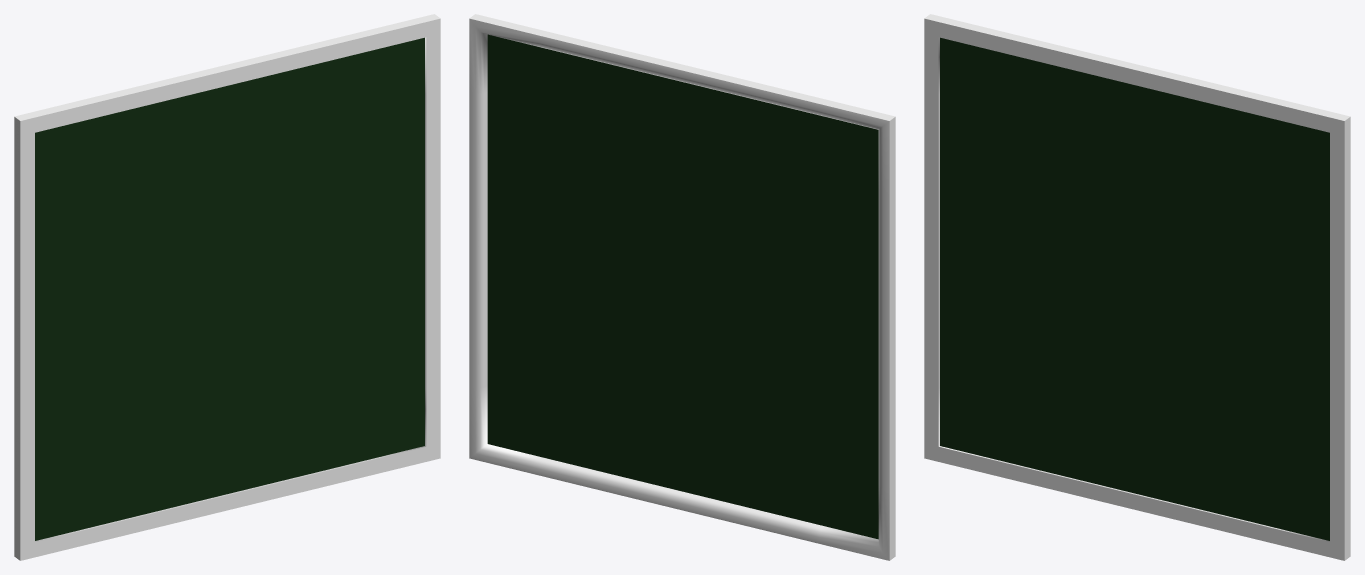
Rendered from poster.FBX.
The picture shows the model from 3 angles, left to right: view 1: azimuth 30°, elevation 25°; view 2: azimuth 150°, elevation 25°; view 3: azimuth 330°, elevation 25°; orthographic projection.
Parts seen in each view (by area): view 1: Plane01, Rectangle01; view 2: Plane01, Rectangle01; view 3: Plane01, Rectangle01.
Boxes of the visible parts, box(x1,y1,x2,y2) form: Plane01: box(35, 37, 424, 540); Rectangle01: box(14, 14, 440, 560); Plane01: box(487, 34, 878, 539); Rectangle01: box(469, 14, 895, 560); Plane01: box(940, 37, 1329, 540); Rectangle01: box(924, 14, 1350, 560).
Size of the model in its own units: 140 by 140 by 3.69.
